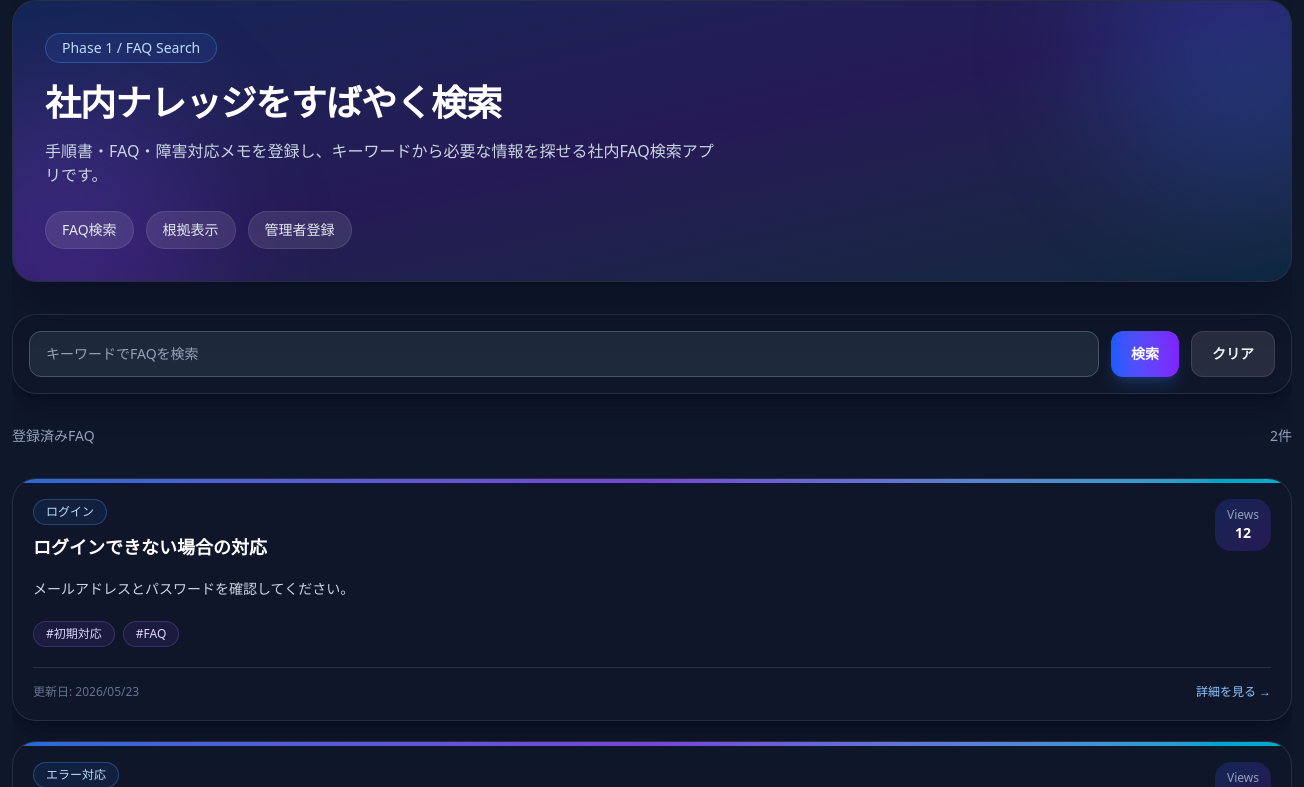
Test case: HomePage › 検索キーワードはtrimされる
The width and height of the screenshot is (1304, 787).
Expected: the heading "ログインできない場合の対応" is shown, x1=33 y1=533 x2=267 y2=561
Type "  ログイン  " into the field with placeholder "キーワードでFAQを検索".
click(564, 354); type("  ログイン  ")  # box x1=29 y1=331 x2=1099 y2=377
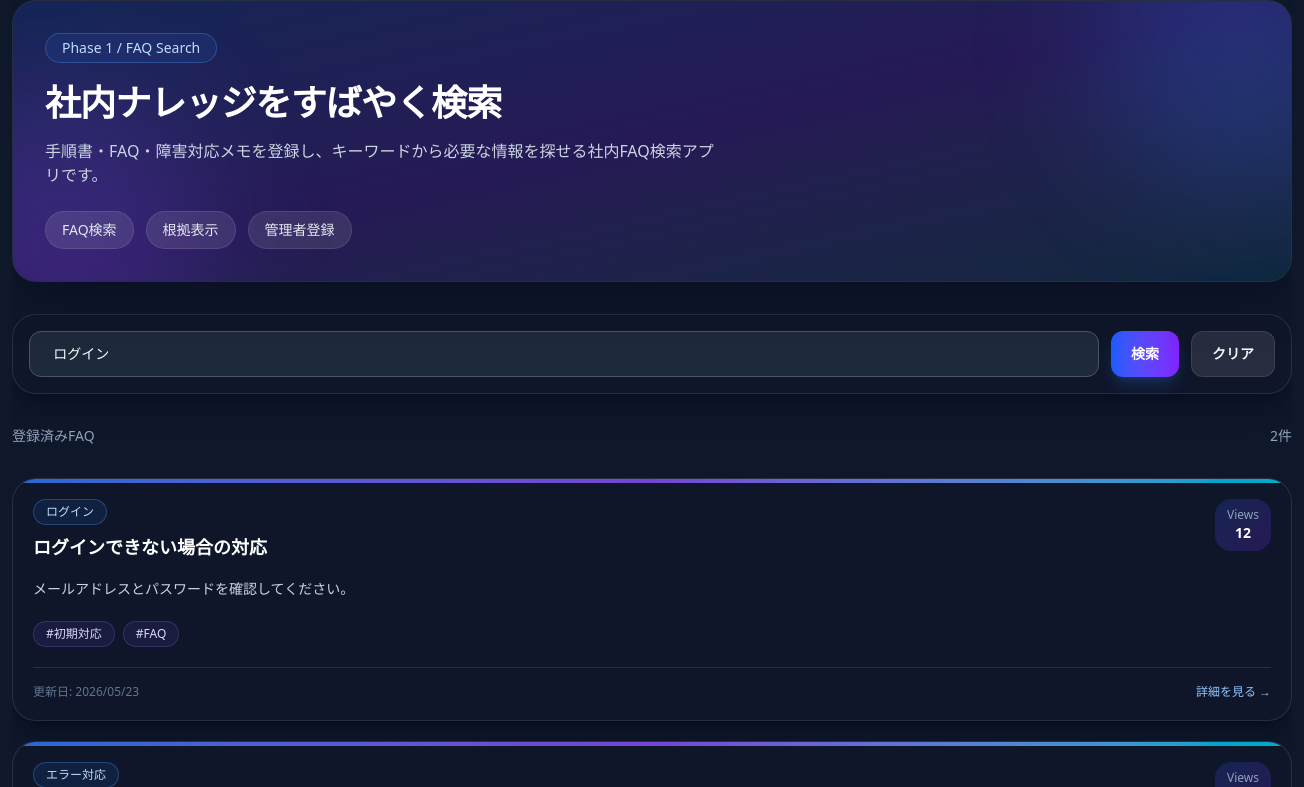
Click the button "検索".
click(1145, 354)  # box x1=1111 y1=331 x2=1179 y2=377
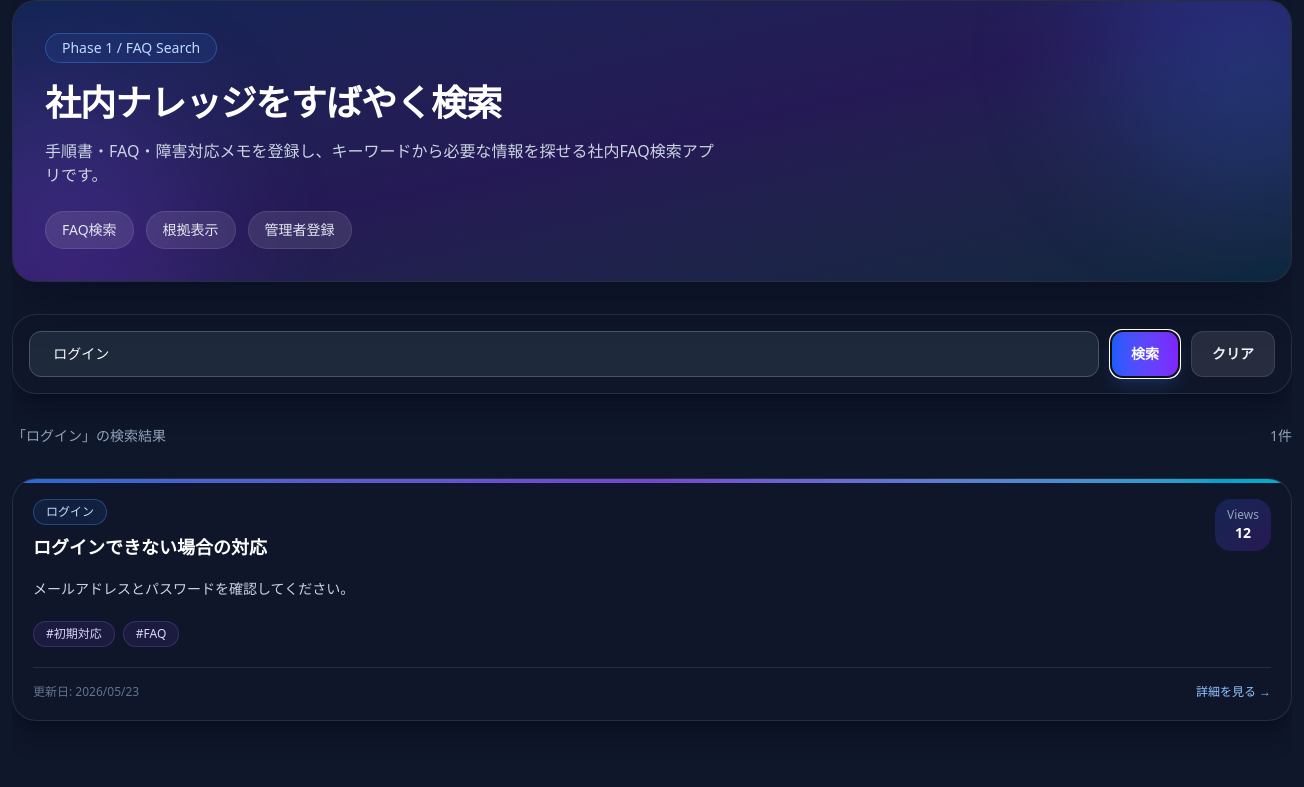
Now the text "「ログイン」の検索結果" is shown, box x1=12 y1=426 x2=166 y2=446
